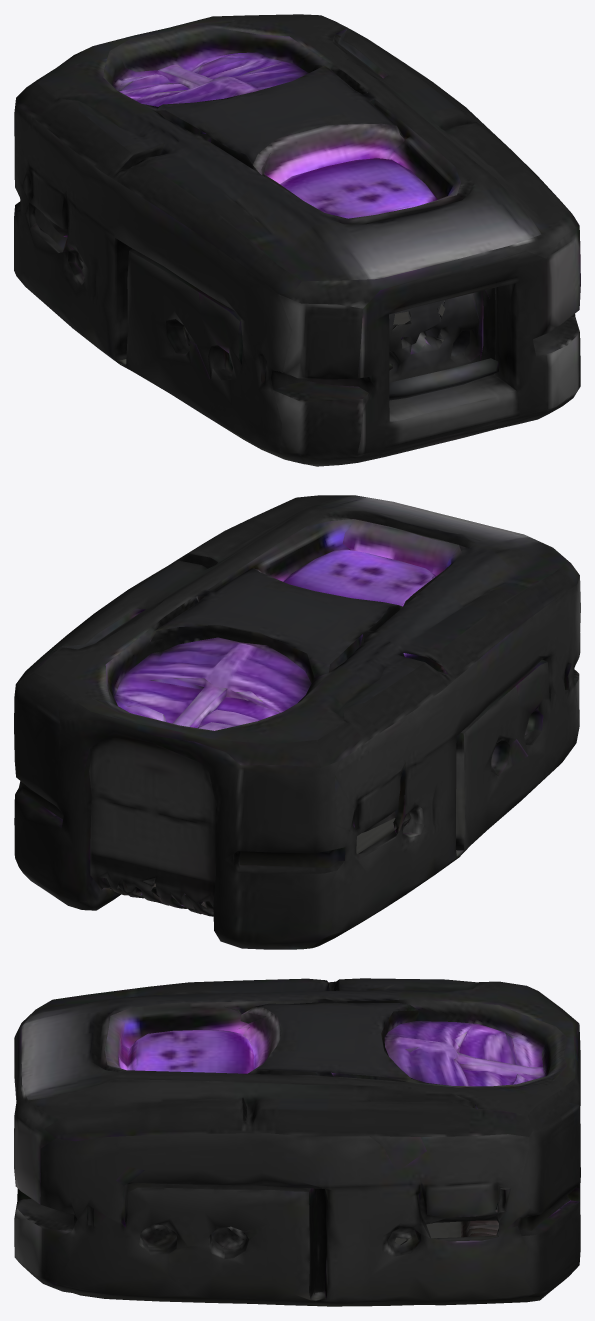
File: cold_wallet.glb
3 views of the same model, one above another, from view 1: azimuth 30°, elevation 25°; view 2: azimuth 150°, elevation 25°; view 3: azimuth 270°, elevation 25° (orthographic). The views are drawn at different scales.
Parts seen in each view (by area): view 1: geometry_0; view 2: geometry_0; view 3: geometry_0.
Part boxes in pixels (<box>): geometry_0: <box>14,14,580,466</box>; geometry_0: <box>14,495,580,949</box>; geometry_0: <box>14,978,580,1306</box>.
Size of the model in its own units: 0.6464 by 0.4086 by 1.
Materials: 1 (1 with a texture image).
